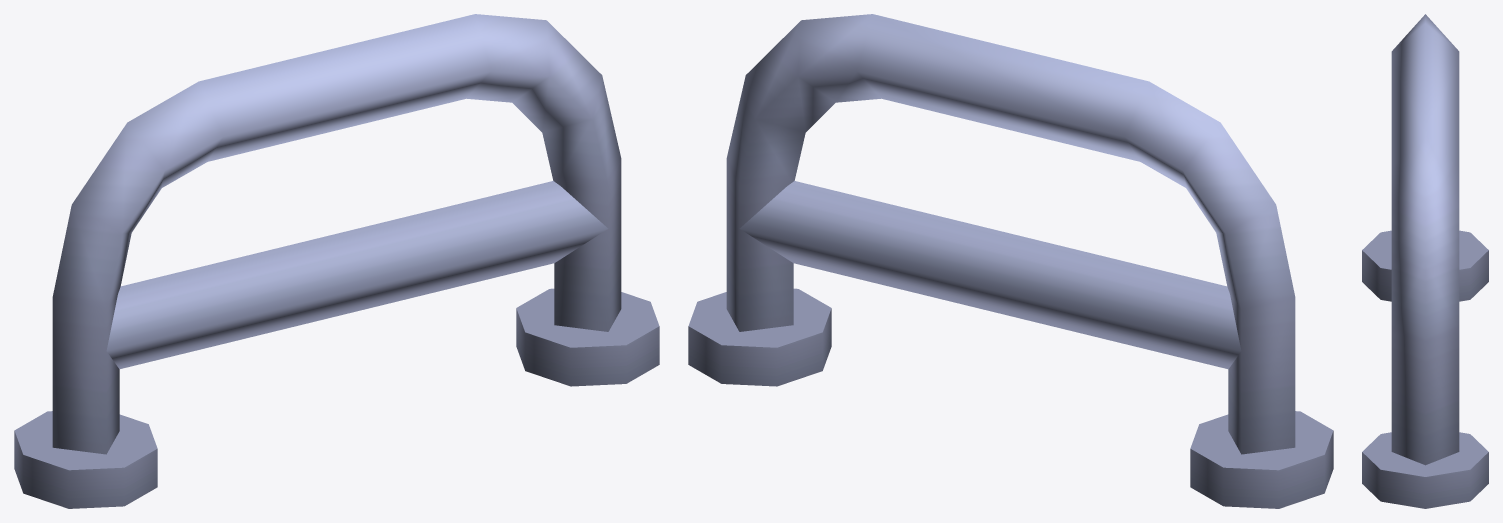
The model's file is obstacle_low_fence.glb.
3 views of the same model, side by side, from view 1: azimuth 30°, elevation 25°; view 2: azimuth 150°, elevation 25°; view 3: azimuth 270°, elevation 25° (orthographic). The views are drawn at different scales.
Visible parts, largest first — view 1: construction-fence; view 2: construction-fence; view 3: construction-fence.
Boxes of the visible parts, x1=… form: construction-fence: x1=14, y1=14, x2=659, y2=508; construction-fence: x1=688, y1=14, x2=1333, y2=508; construction-fence: x1=1362, y1=14, x2=1488, y2=508.
Size of the model in its own units: 1.6 by 0.8999 by 0.34.
Materials: 1 (1 with a texture image).
